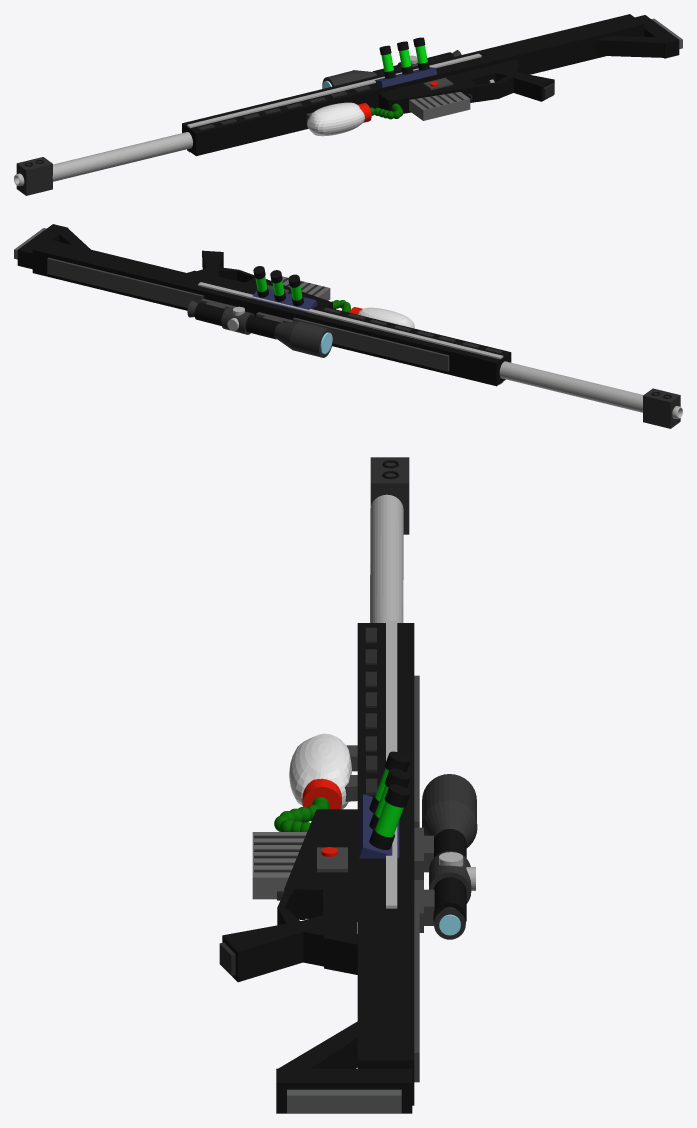
The model's file is sniper01.fbx.
The picture shows the model from 3 angles, top to bottom: view 1: azimuth 30°, elevation 25°; view 2: azimuth 150°, elevation 25°; view 3: azimuth 270°, elevation 25°; orthographic projection. The views are drawn at different scales.
Visible parts, largest first — view 1: Cube, Cylinder, Cube.001, Sphere, Cube.008, Cube.010, Cube.012, Cube.009, Cube.003, Cube.007, Cube.002, Cube.005 (+1 smaller); view 2: Cube, Cylinder, Cube.040, Cube.039, Cube.010, Cube.009, Cylinder.006, Cube.007, Sphere, Cylinder.001, Cylinder.003, Cylinder.002 (+4 smaller); view 3: Cube, Cube.001, Cylinder, Cube.007, Cube.003, Sphere, Cube.041, Cube.002, Cube.010, Cube.012, Cube.008, Cube.009 (+5 smaller).
Part boxes in pixels (box(x1,y1,x2,y2)): Cube: box(182, 14, 644, 156); Cylinder: box(52, 132, 192, 181); Cube.001: box(378, 73, 478, 113); Sphere: box(307, 102, 364, 136); Cube.008: box(595, 36, 664, 57); Cube.010: box(187, 53, 481, 128); Cube.012: box(409, 92, 470, 120); Cube.009: box(16, 157, 52, 195); Cube.003: box(509, 72, 554, 101); Cube.007: box(635, 15, 679, 58); Cube.002: box(463, 59, 518, 84); Cube.005: box(477, 82, 499, 101); Cube: box(32, 239, 511, 386); Cylinder: box(499, 361, 643, 412); Cube.040: box(47, 257, 203, 307); Cube.039: box(293, 317, 449, 371); Cube.010: box(198, 282, 503, 359); Cube.009: box(643, 388, 680, 428); Cylinder.006: box(290, 321, 332, 357); Cube.007: box(17, 224, 67, 269); Sphere: box(358, 307, 414, 328); Cylinder.001: box(245, 315, 280, 339); Cylinder.003: box(194, 302, 225, 325); Cylinder.002: box(221, 307, 254, 334); Cube: box(357, 623, 414, 1105); Cube.001: box(284, 809, 357, 921); Cylinder: box(370, 494, 403, 622); Cube.007: box(276, 1068, 412, 1113); Cube.003: box(222, 922, 303, 982); Sphere: box(289, 733, 351, 809); Cube.041: box(287, 1089, 401, 1113); Cube.002: box(323, 890, 357, 974); Cube.010: box(386, 621, 397, 908); Cube.012: box(252, 832, 306, 899); Cube.008: box(276, 1021, 357, 1070); Cube.009: box(370, 457, 409, 534).
Bounding box in the file's own units: 8736 × 754 × 1523.
